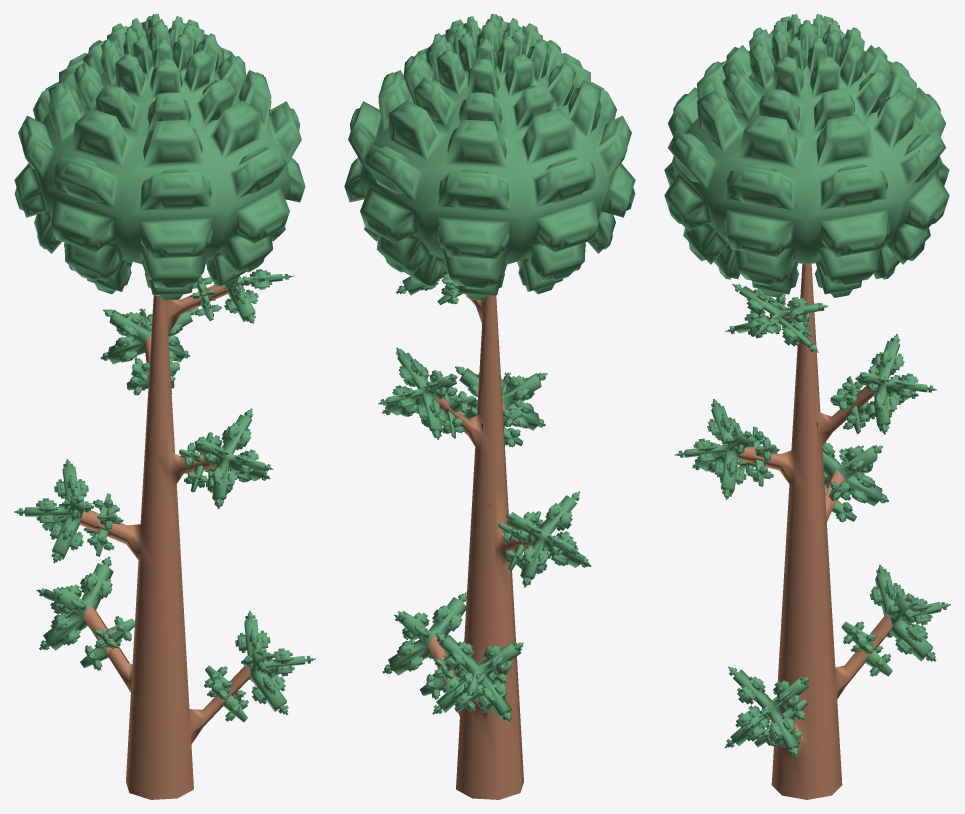
File: tree3.glb
The picture shows the model from 3 angles, left to right: view 1: azimuth 30°, elevation 25°; view 2: azimuth 150°, elevation 25°; view 3: azimuth 270°, elevation 25°; orthographic projection.
Visible parts, largest first — view 1: Cylinder; view 2: Cylinder; view 3: Cylinder.
Boxes of the visible parts, x1,y1,x2,y2 form: Cylinder: (14,14,315,799); Cylinder: (344,14,635,799); Cylinder: (664,14,950,799).
Size of the model in its own units: 1.52 by 4.45 by 1.51.
Materials: 1 (1 with a texture image).
